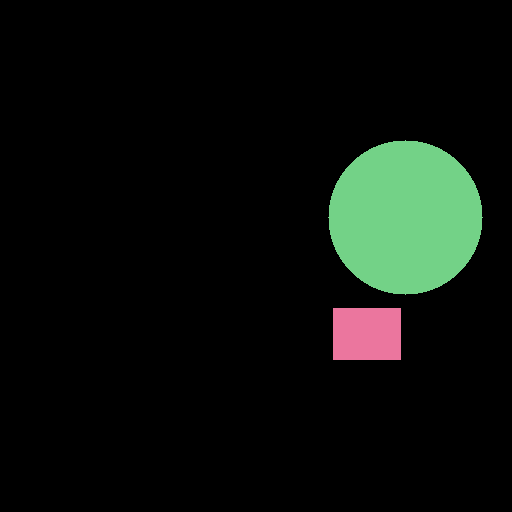circle: (328, 140, 482, 294)
rectangle: (333, 308, 400, 359)
